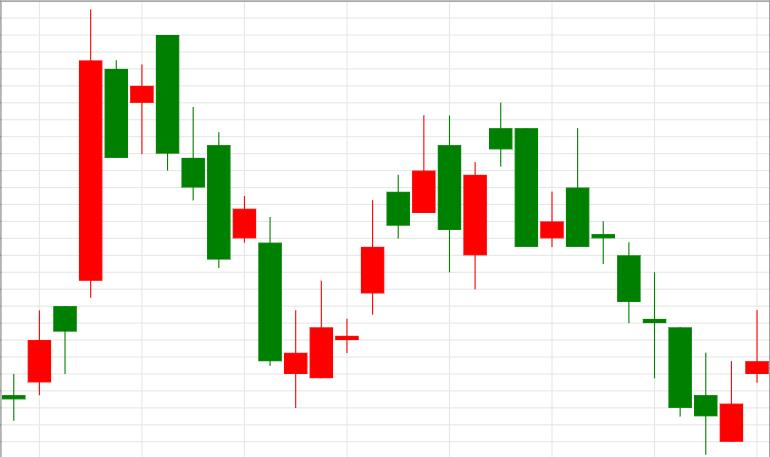shooting_star_fall: (284, 115, 436, 408)
